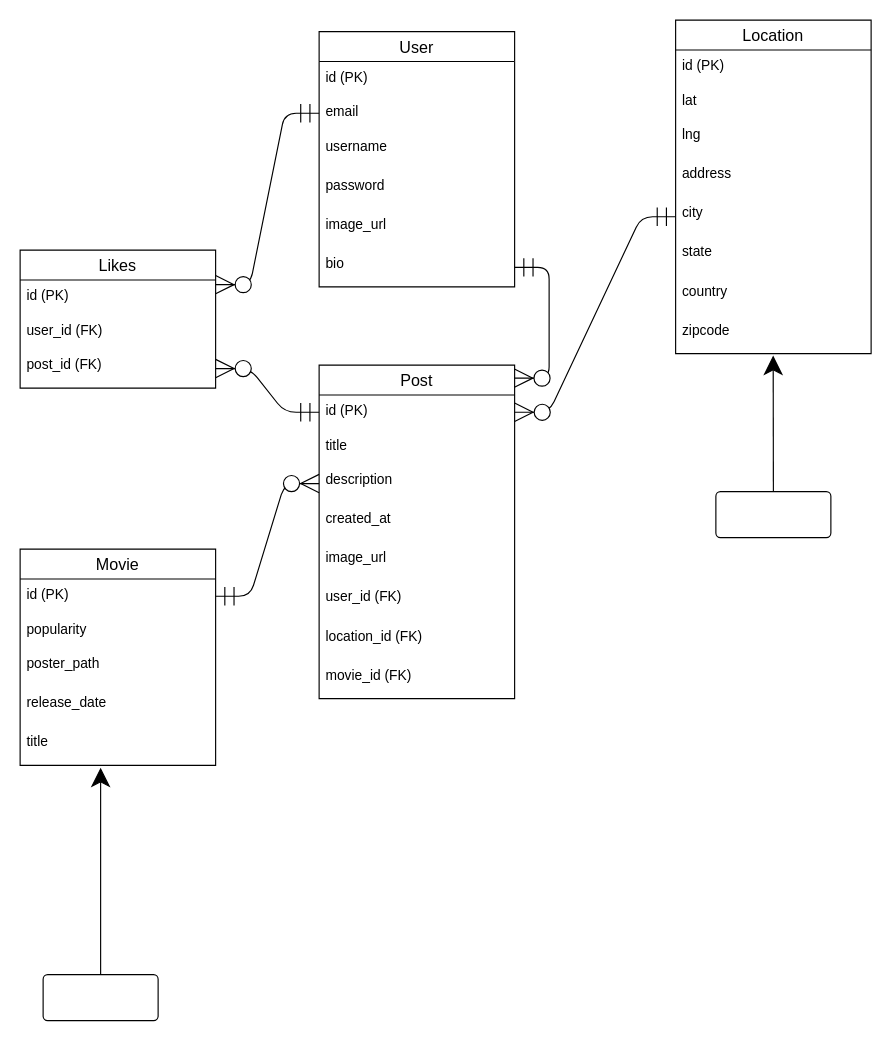
The diagram is 891 pixels wide and 1041 high, and some of its shapes have lost their labels. The shapes that lost their labels are listed below. From the top down, each one's centre as x and y in pixels, then its label:
the point at 773,514: Google Maps API
the point at 100,997: TMDB API
